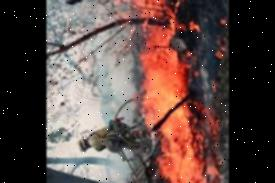fire: (136, 44, 219, 183), (129, 0, 175, 42)
